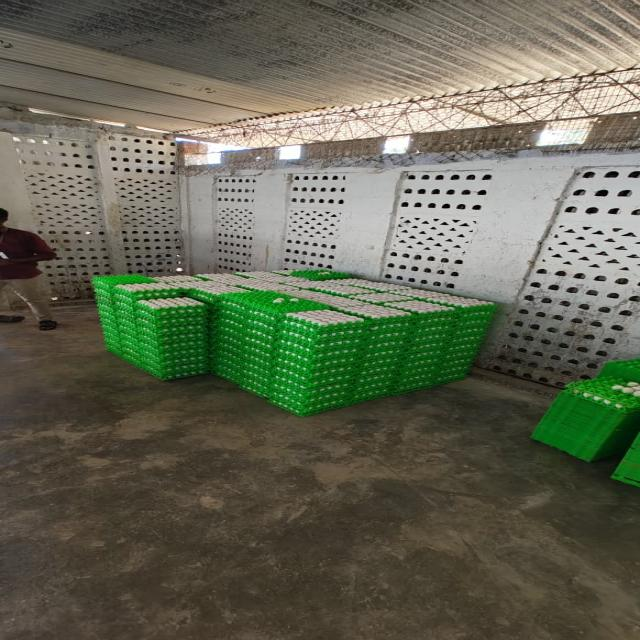egg_tray: (567, 377, 639, 410)
